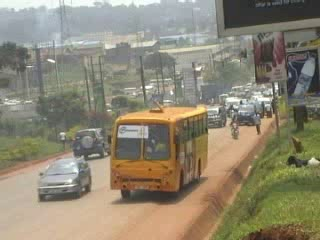Car: (36, 154, 94, 199), (71, 124, 113, 163)
Motorcycle: (229, 113, 242, 140), (227, 104, 237, 122)
